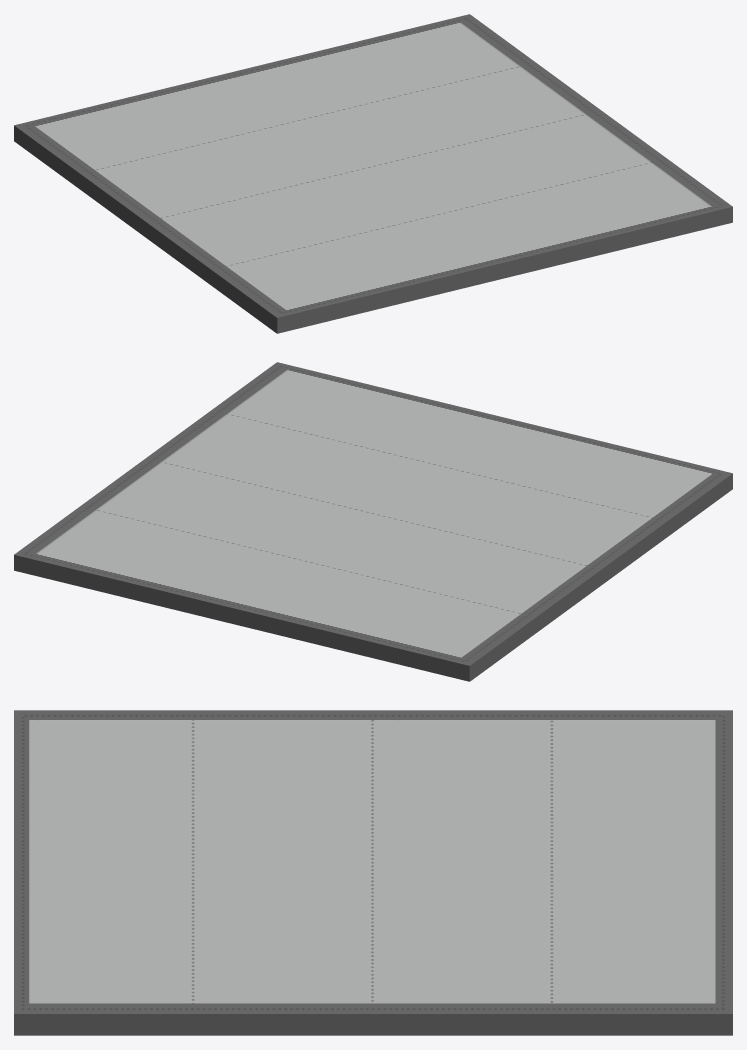
Rendered from Quarter Floor.fbx.
3 renders of one model, top to bottom at view 1: azimuth 30°, elevation 25°; view 2: azimuth 150°, elevation 25°; view 3: azimuth 270°, elevation 25°, orthographic. The views are drawn at different scales.
Visible parts, largest first — view 1: Floor Piece; view 2: Floor Piece; view 3: Floor Piece.
Part boxes in pixels (x1,y1,x2,y2): Floor Piece: (14,14,732,333); Floor Piece: (14,362,732,681); Floor Piece: (14,710,732,1035).
Bounding box in the file's own units: 750 × 25 × 750.
